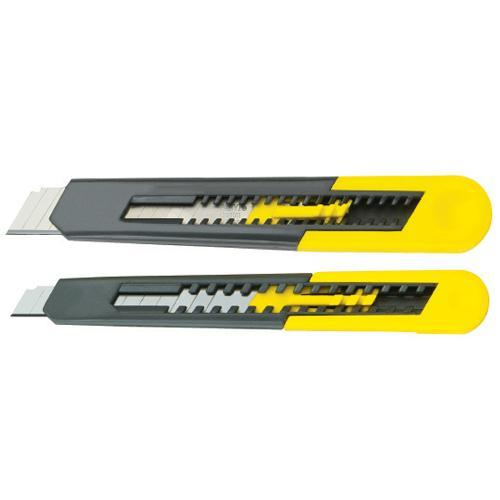knief: (4, 148, 497, 264)
